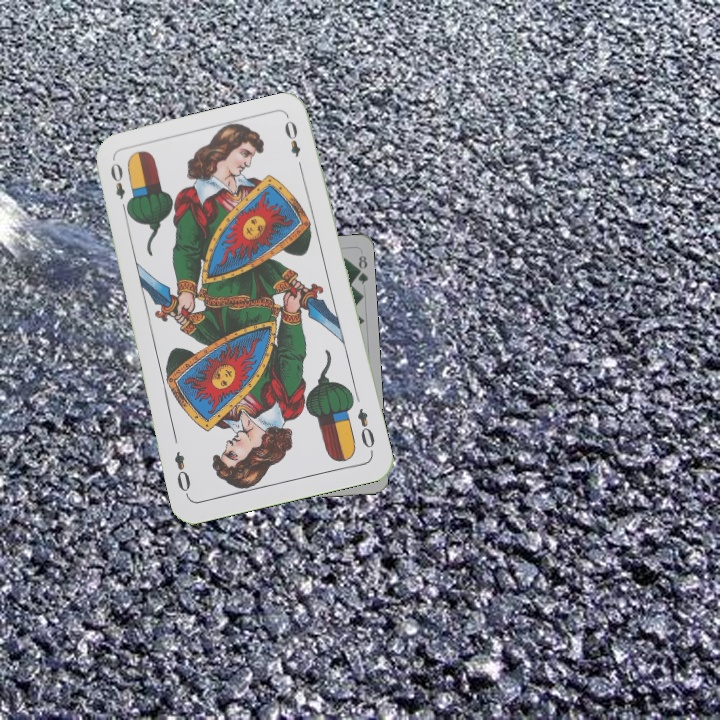EO: (106, 159, 133, 216), (353, 404, 378, 451)
